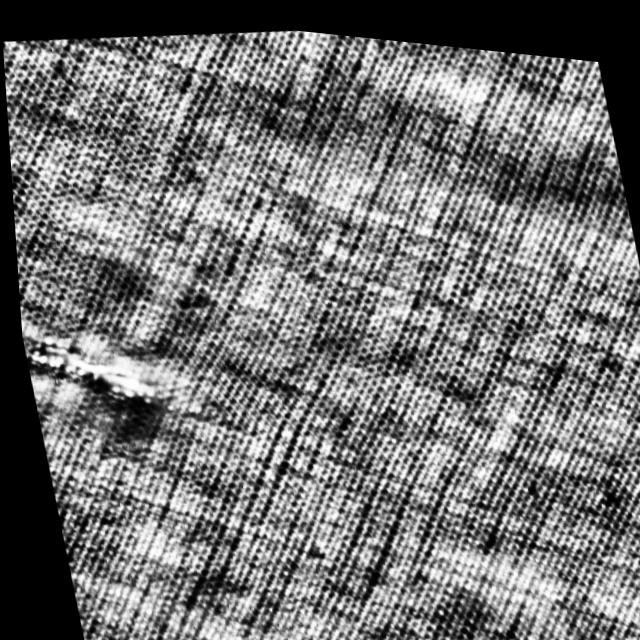Hole: (16, 314, 178, 425)
